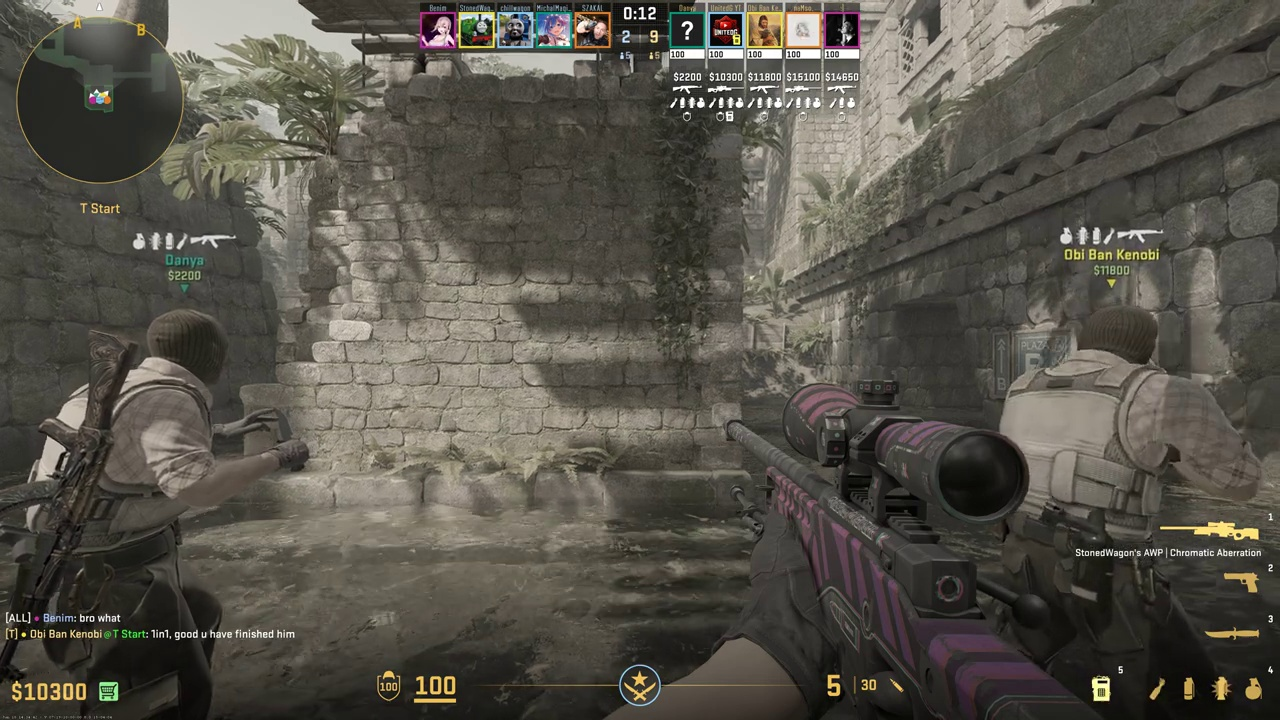Terrorist: (999, 304, 1241, 713), (26, 313, 248, 713)
